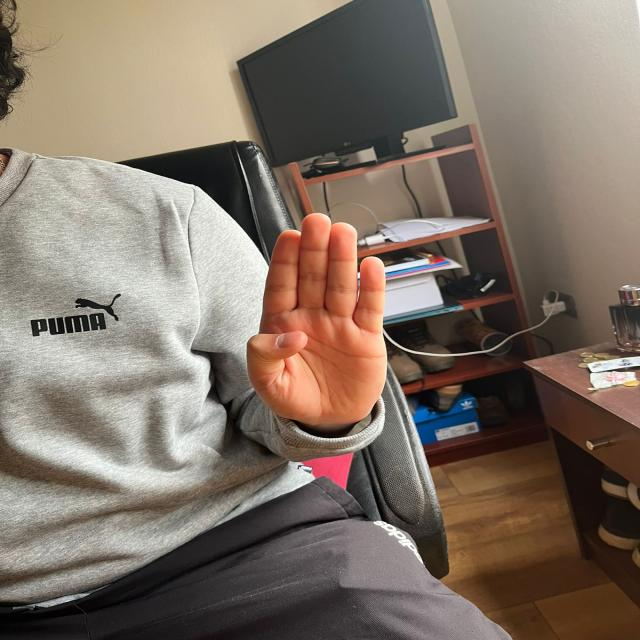B: (246, 208, 394, 429)
